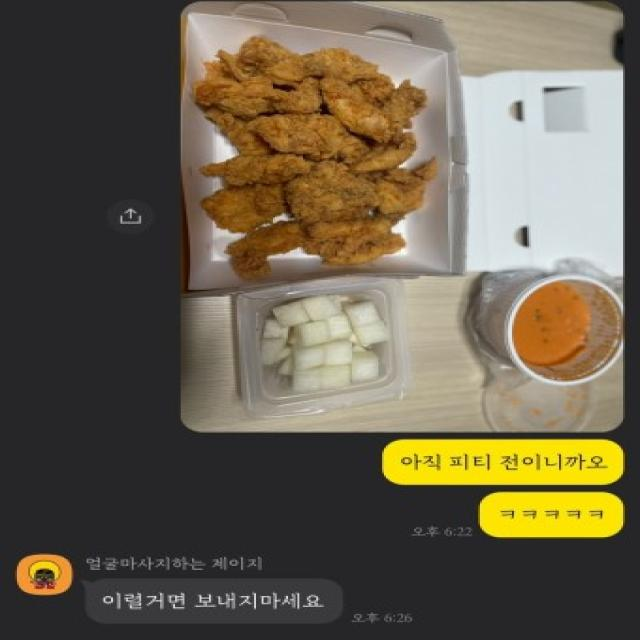Frango: (213, 33, 425, 274)
